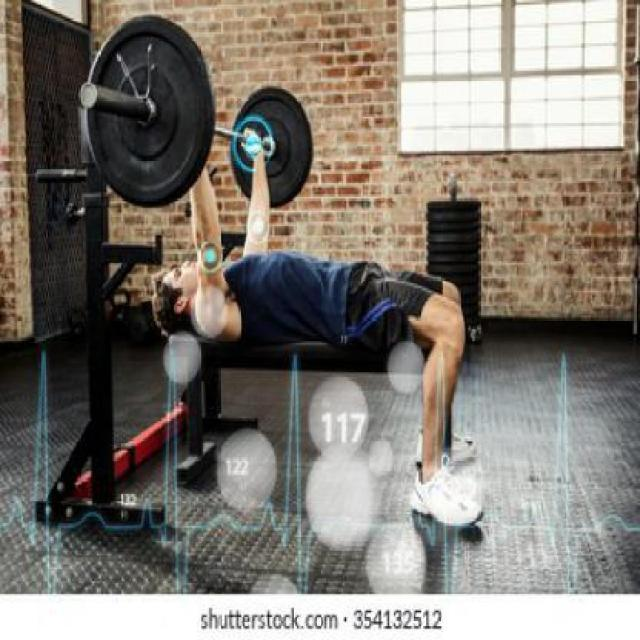barbell: (73, 13, 221, 210)
